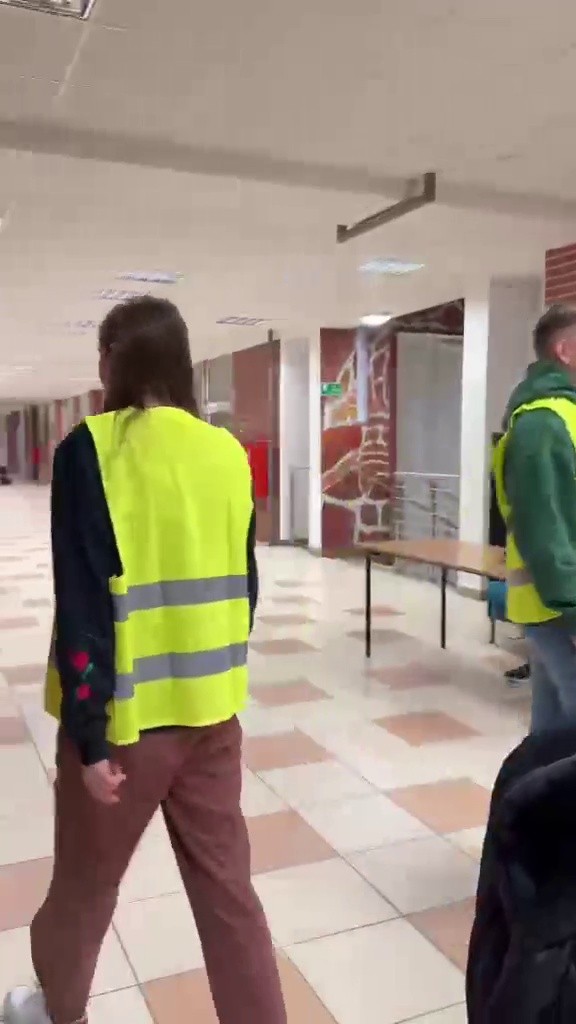vest: (31, 301, 299, 1007), (493, 299, 576, 734)
